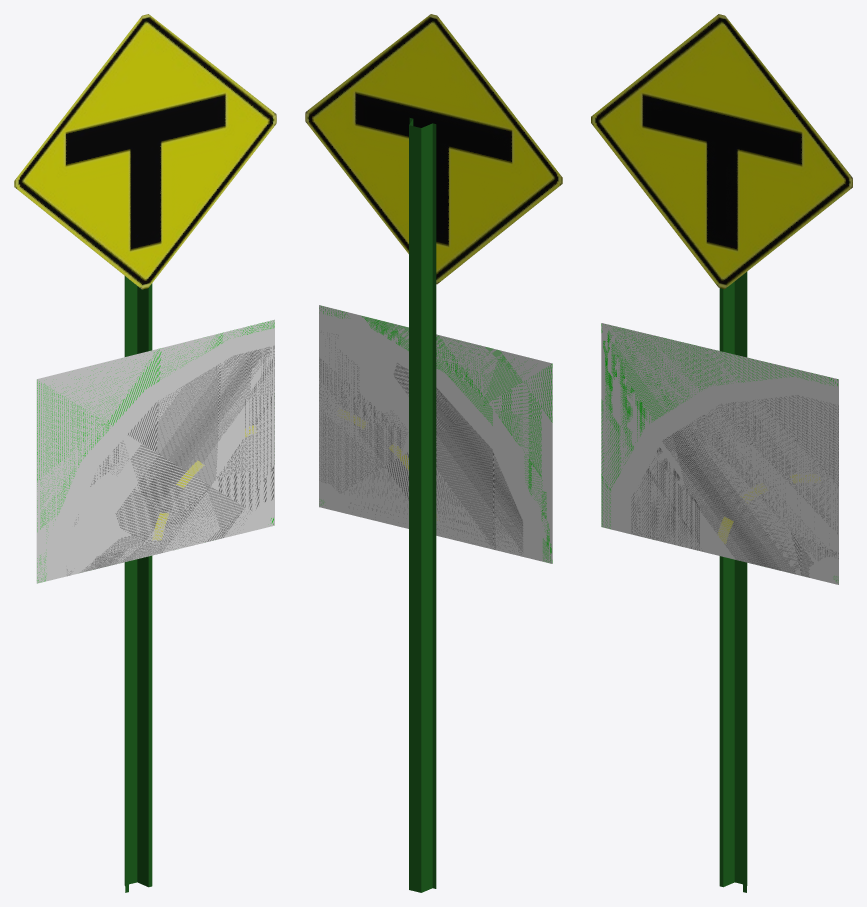
Rendered from intersection.dae.
The picture shows the model from 3 angles, left to right: view 1: azimuth 30°, elevation 25°; view 2: azimuth 150°, elevation 25°; view 3: azimuth 330°, elevation 25°; orthographic projection.
Visible parts, largest first — view 1: skp24d0, Component, Component2; view 2: skp24d0, Component, Component2; view 3: skp24d0, Component, Component2.
Part boxes in pixels (<box>): skp24d0: <box>36,319,274,583</box>; Component: <box>14,14,276,289</box>; Component2: <box>124,276,152,892</box>; skp24d0: <box>319,305,552,563</box>; Component: <box>305,14,562,284</box>; Component2: <box>409,118,436,892</box>; skp24d0: <box>601,323,838,584</box>; Component: <box>591,14,852,288</box>; Component2: <box>719,272,747,892</box>.
Size of the model in its own units: 33.77 by 5.11 by 109.
